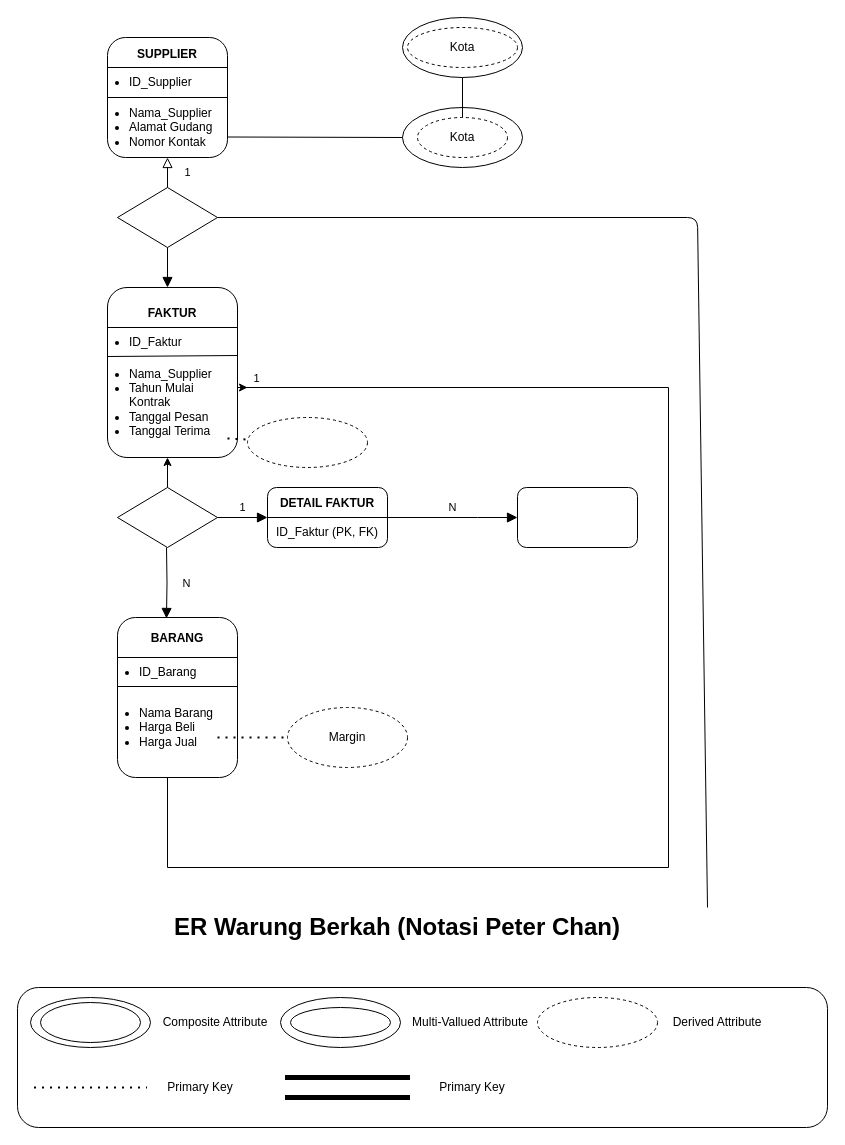
Image size: 845x1145. Some labels were removed from this diagram. Here are the shapes that lost their labels. From the top down, the centre of each, then its label:
(x=167, y=217): Mengirim
(x=307, y=442): Lama Proses Hari
(x=167, y=517): Memiliki
(x=577, y=517): ID_Faktur (PK, FK) ID_Barang (PK, FK)
